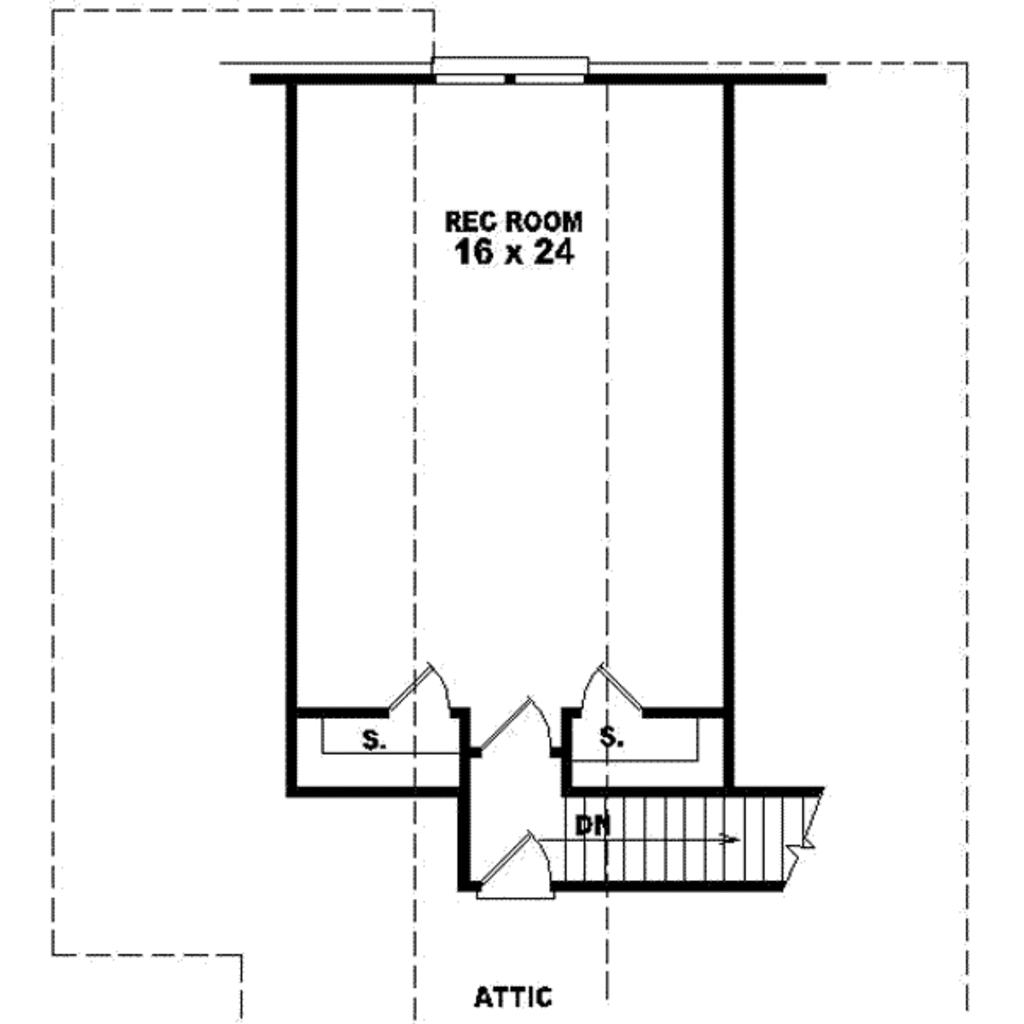door: (467, 825, 558, 908), (478, 687, 557, 758), (386, 658, 461, 724), (575, 655, 647, 716)
stairs: (552, 793, 852, 911)
window: (439, 62, 512, 87), (521, 63, 578, 87)
